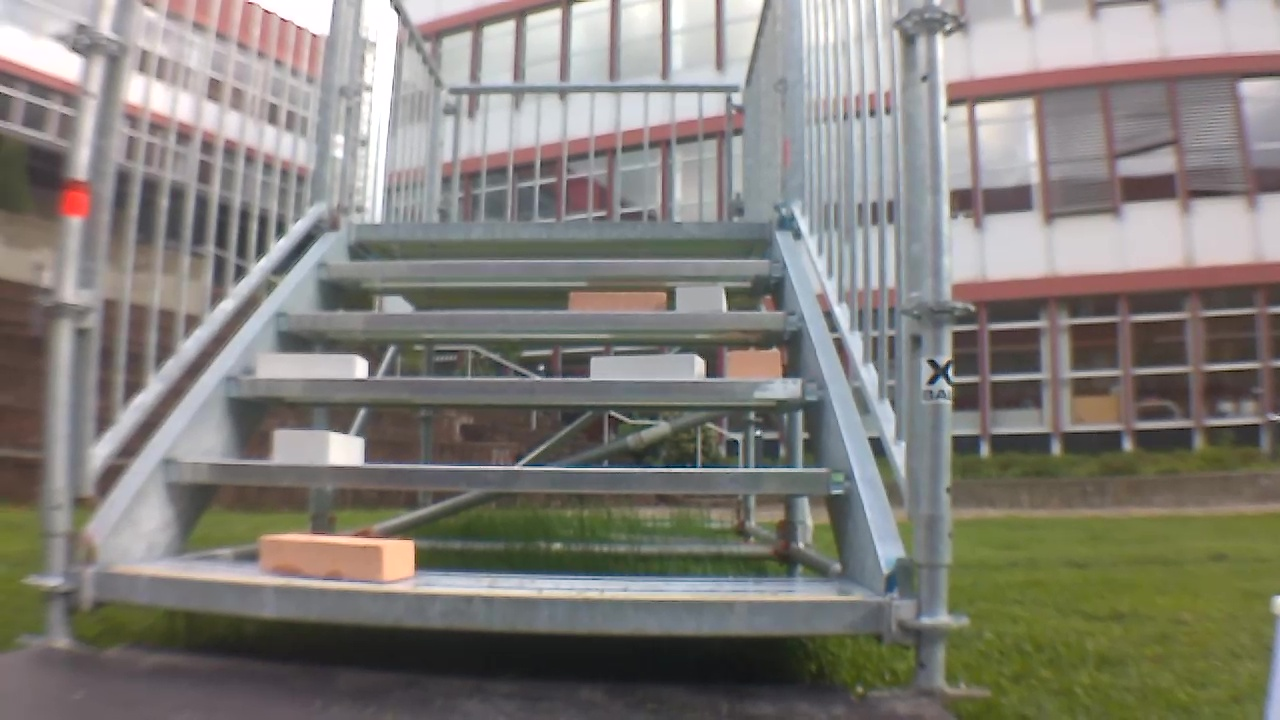brick: (261, 534, 412, 582), (273, 430, 364, 465), (592, 354, 704, 380), (259, 353, 369, 379), (568, 291, 666, 312), (727, 351, 781, 380), (677, 288, 726, 313)
edge: (94, 570, 877, 636), (168, 461, 845, 494), (226, 376, 821, 403), (277, 312, 804, 330), (314, 258, 786, 276), (350, 220, 768, 239)
stairs: (28, 4, 964, 692)
steps: (79, 214, 888, 650)
